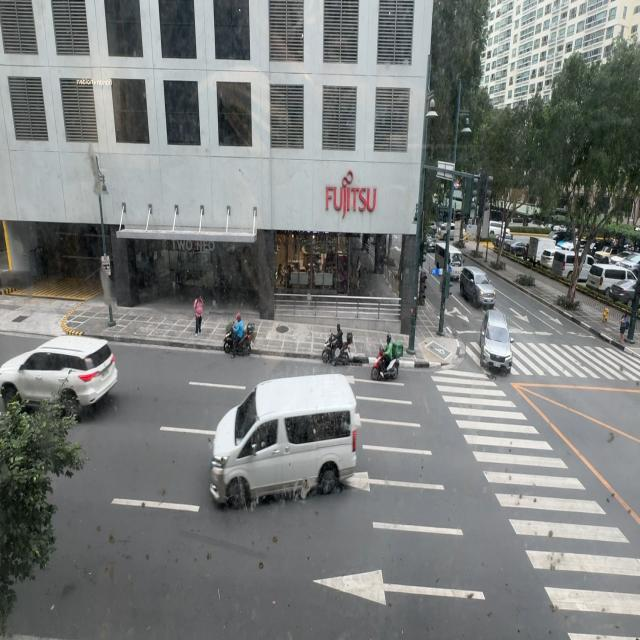pedestrain: (193, 294, 204, 337)
waiting: (620, 312, 629, 344)
